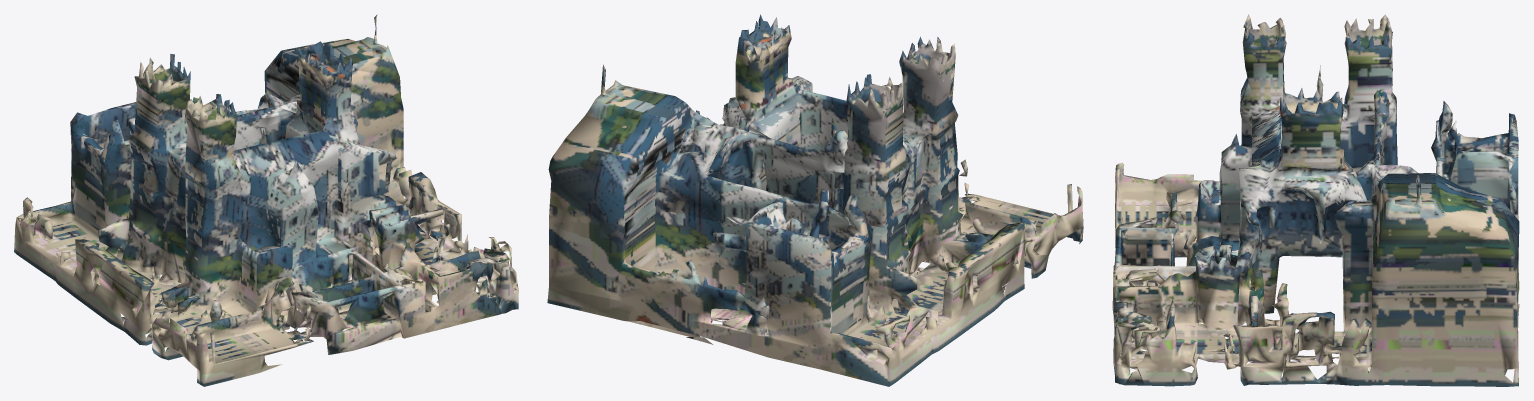
The model's file is crucible_hall.glb.
3 renders of one model, left to right at view 1: azimuth 30°, elevation 25°; view 2: azimuth 150°, elevation 25°; view 3: azimuth 270°, elevation 25°, orthographic. The views are drawn at different scales.
Parts seen in each view (by area): view 1: LP_baked; view 2: LP_baked; view 3: LP_baked.
Part boxes in pixels (left/top/right/bottom): LP_baked: left=14, top=14, right=518, bottom=386; LP_baked: left=547, top=14, right=1083, bottom=386; LP_baked: left=1112, top=14, right=1519, bottom=386.
Size of the model in its own units: 1.96 by 1.26 by 1.96.
Materials: 1 (1 with a texture image).
